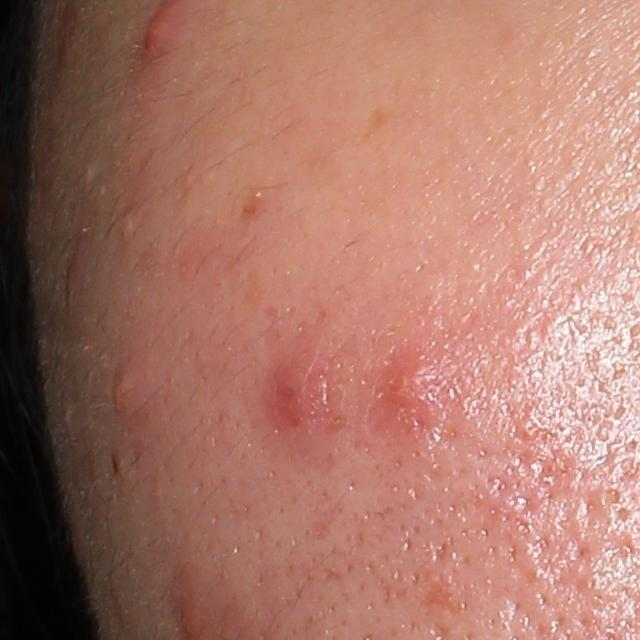melasma: (363, 105, 387, 142)
papule: (382, 354, 435, 411), (266, 369, 315, 421), (110, 364, 150, 422), (139, 1, 174, 62), (65, 258, 86, 288)
